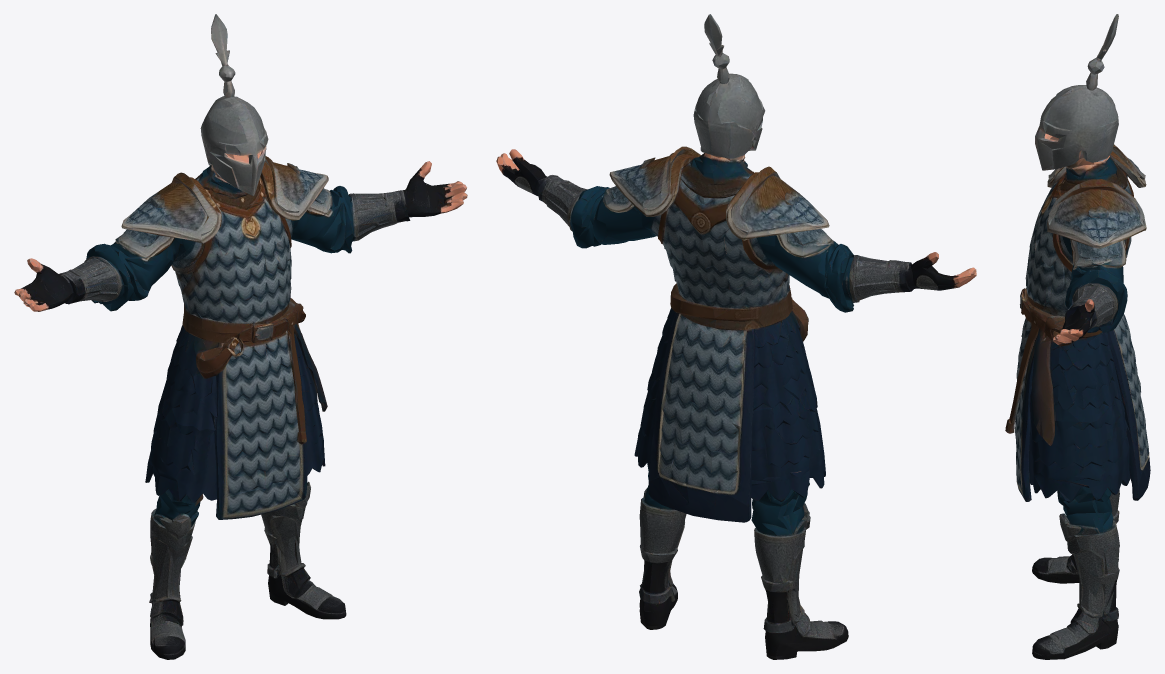
Rendered from char_OFF_doitruong.glb.
3 renders of one model, left to right at view 1: azimuth 30°, elevation 25°; view 2: azimuth 150°, elevation 25°; view 3: azimuth 270°, elevation 25°, orthographic. The views are drawn at different scales.
Bounding box in the file's own units: 1.5 × 1.9 × 0.4165.
Materials: 1 (1 with a texture image).
